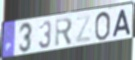3: (18, 21, 33, 55), (38, 20, 52, 51)
A: (111, 8, 132, 39)
O: (94, 10, 112, 42)
R: (54, 16, 74, 49)
Z: (75, 13, 92, 45)
